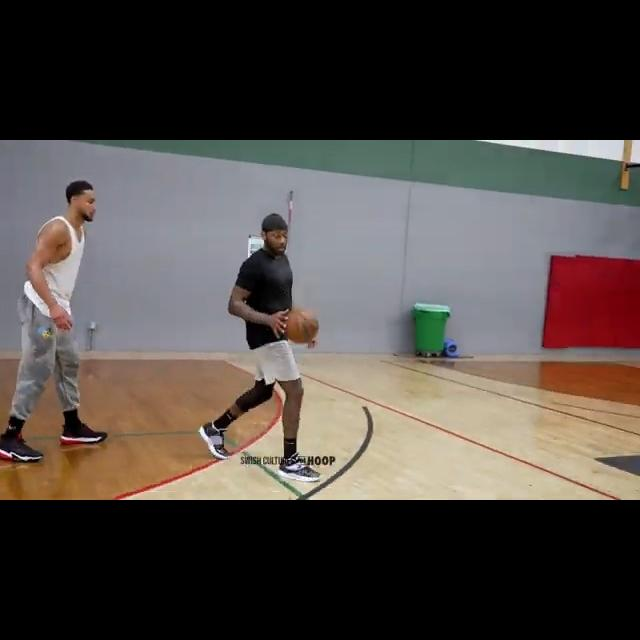basketball: (281, 308, 322, 345)
person: (196, 211, 331, 486), (0, 179, 113, 464)
